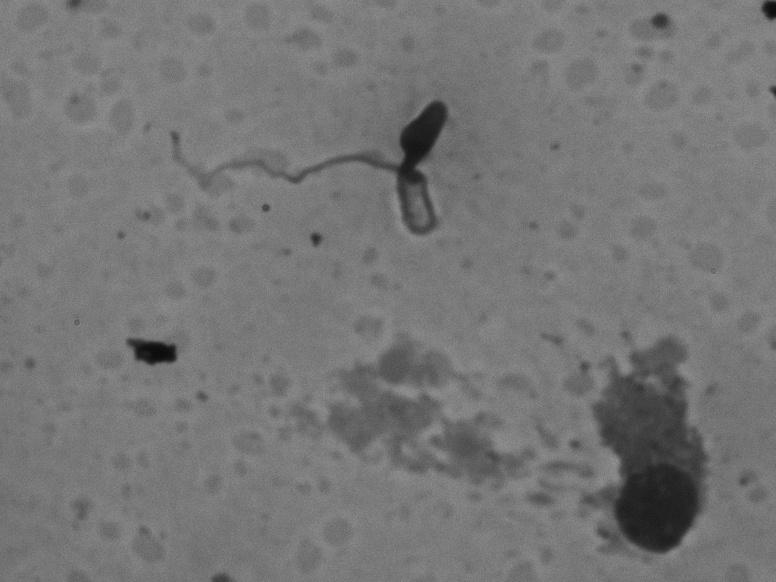Abnormal: (134, 82, 479, 280)
